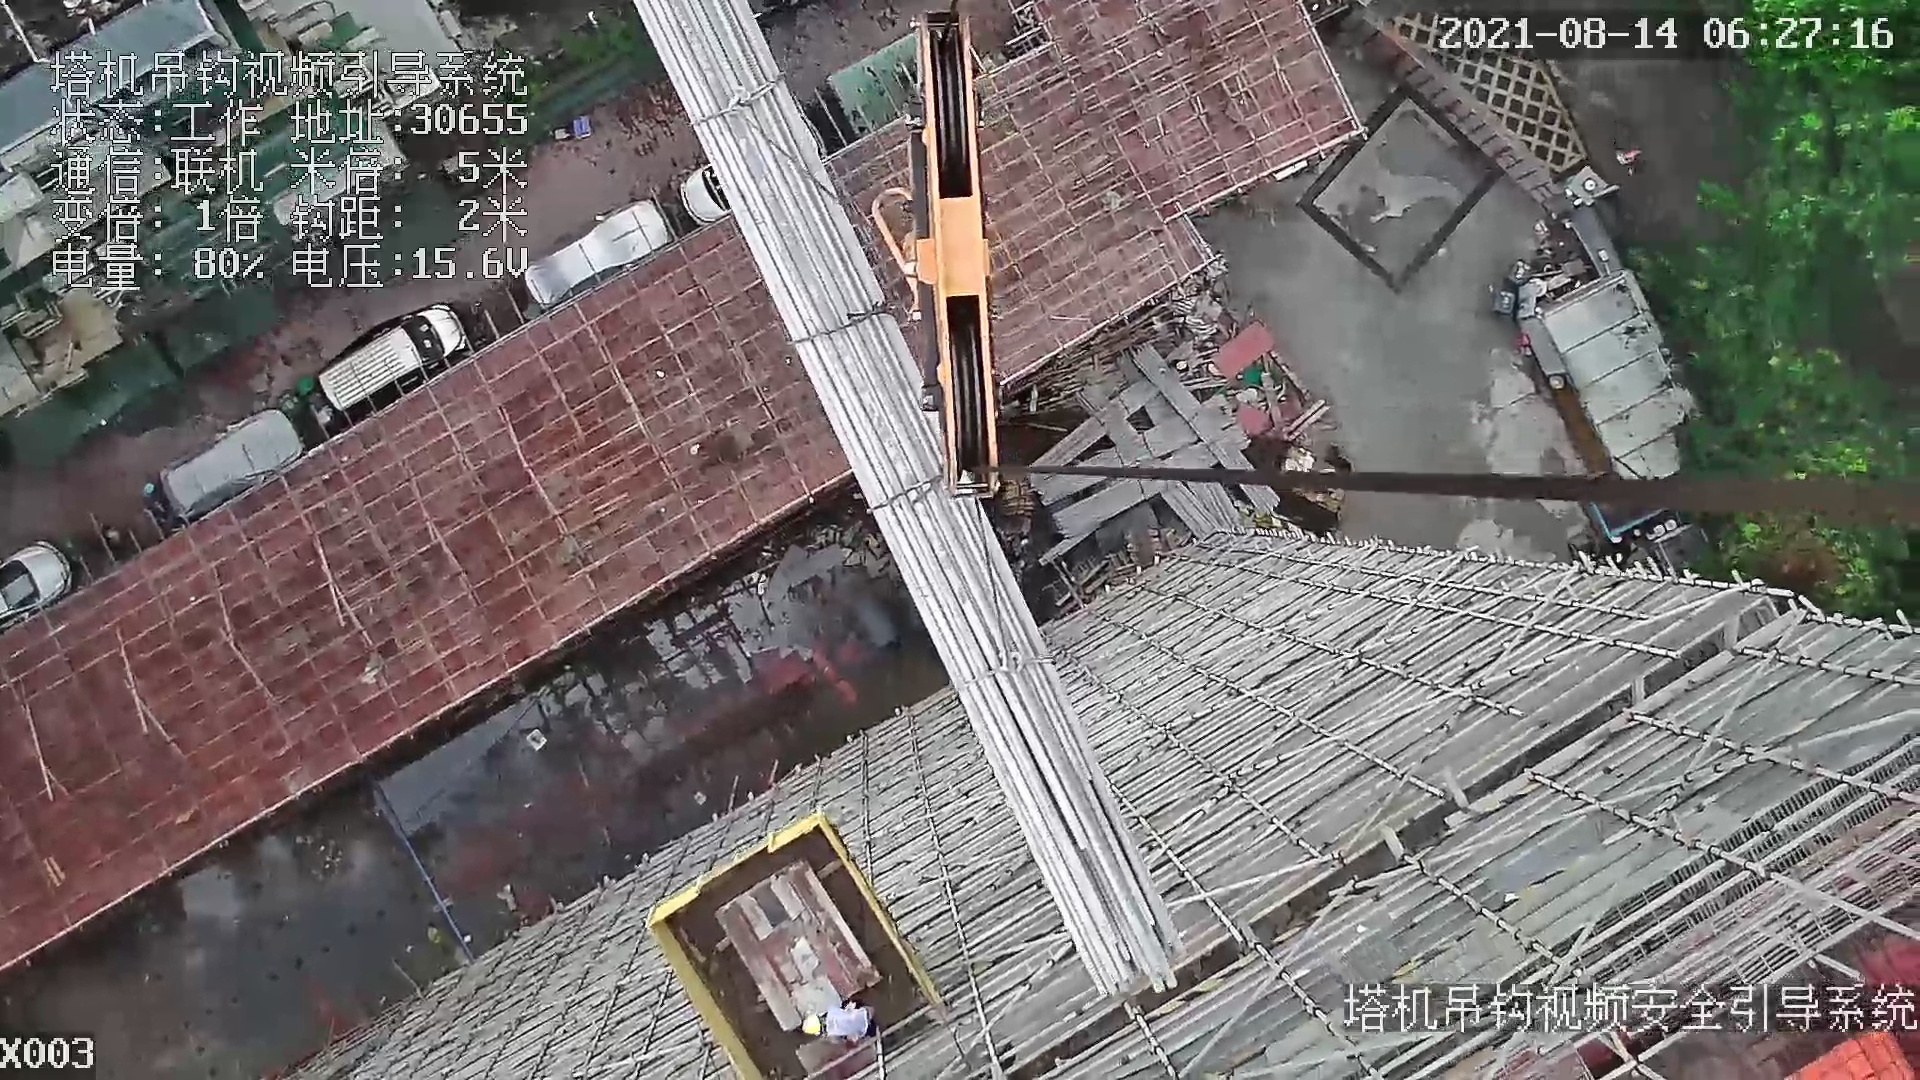helmet: (793, 1009, 833, 1043)
hook: (905, 6, 1010, 501)
person: (800, 1000, 877, 1043)
